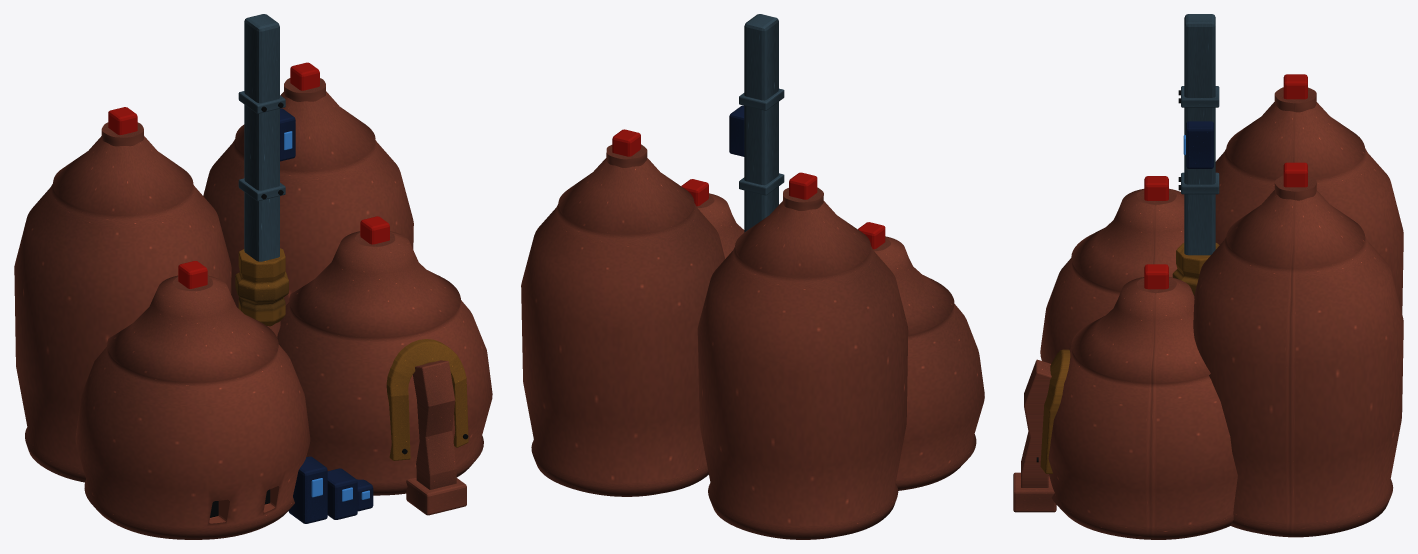
The picture shows the model from 3 angles, left to right: view 1: azimuth 30°, elevation 25°; view 2: azimuth 150°, elevation 25°; view 3: azimuth 270°, elevation 25°; orthographic projection. The views are drawn at different scales.
Visible parts, largest first — view 1: AC11 front chamber 0, AC11 rear chamber 0, AC11 front chamber 1, AC11 rear chamber 1, AC11 blue structural spine, AC11 constructed coral service fixture, AC11 broad constructed ochre arch, AC11 stepped ochre spine coupling, AC11 blue base housing 0, AC11 fixture ground shoe, AC11 blue base housing 1, AC11 rear red optic 1 (+6 smaller); view 2: AC11 rear chamber 0, AC11 rear chamber 1, AC11 front chamber 0, AC11 blue structural spine, AC11 front chamber 1, AC11 source-visible spine side housing, AC11 rear red optic 0, AC11 rear red optic 1, AC11 rear red optic seat 1, AC11 rear red optic seat 0; view 3: AC11 rear chamber 1, AC11 front chamber 1, AC11 rear chamber 0, AC11 front chamber 0, AC11 blue structural spine, AC11 constructed coral service fixture, AC11 broad constructed ochre arch, AC11 source-visible spine side housing, AC11 fixture ground shoe, AC11 stepped ochre spine coupling, AC11 rear red optic seat 1, AC11 rear red optic seat 0 (+6 smaller).
Part boxes in pixels (x1,y1,x2,y2): AC11 front chamber 0: (75, 275, 310, 539); AC11 rear chamber 0: (14, 136, 231, 482); AC11 front chamber 1: (277, 231, 492, 495); AC11 rear chamber 1: (203, 91, 413, 308); AC11 blue structural spine: (244, 14, 279, 261); AC11 constructed coral service fixture: (413, 360, 456, 489); AC11 broad constructed ochre arch: (386, 339, 468, 460); AC11 stepped ochre spine coupling: (235, 248, 288, 326); AC11 blue base housing 0: (288, 456, 327, 523); AC11 fixture ground shoe: (406, 478, 466, 515); AC11 blue base housing 1: (327, 468, 357, 519); AC11 rear red optic 1: (290, 62, 319, 90); AC11 rear chamber 0: (697, 201, 908, 539); AC11 rear chamber 1: (521, 157, 724, 496); AC11 front chamber 0: (873, 236, 984, 490); AC11 blue structural spine: (744, 14, 778, 232); AC11 front chamber 1: (696, 193, 744, 258); AC11 source-visible spine side housing: (729, 105, 744, 156); AC11 rear red optic 0: (789, 172, 817, 199); AC11 rear red optic 1: (612, 129, 640, 156); AC11 rear red optic seat 1: (606, 144, 647, 167); AC11 rear red optic seat 0: (783, 187, 823, 210); AC11 rear chamber 1: (1193, 190, 1403, 537); AC11 front chamber 1: (1041, 277, 1237, 539); AC11 rear chamber 0: (1215, 101, 1403, 313); AC11 front chamber 0: (1040, 188, 1184, 363); AC11 blue structural spine: (1184, 14, 1215, 255); AC11 constructed coral service fixture: (1021, 359, 1051, 487); AC11 broad constructed ochre arch: (1040, 349, 1070, 473); AC11 source-visible spine side housing: (1186, 121, 1213, 168); AC11 fixture ground shoe: (1013, 472, 1056, 512); AC11 stepped ochre spine coupling: (1172, 243, 1219, 295); AC11 rear red optic seat 1: (1274, 175, 1316, 200); AC11 rear red optic seat 0: (1274, 87, 1316, 112).
Size of the model in its own units: 2.54 by 2.8 by 2.25.
7 materials, 5 textured.
